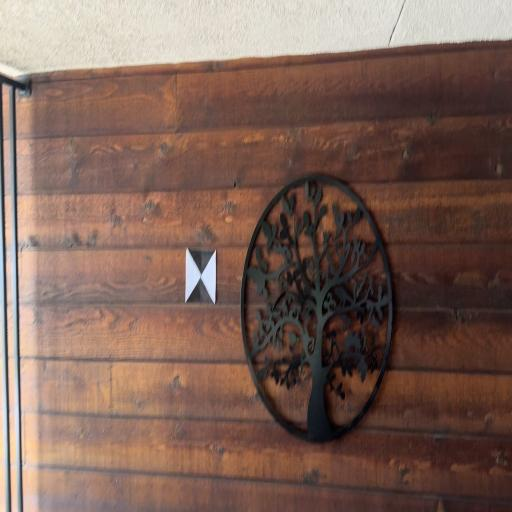target: (186, 249, 216, 304)
